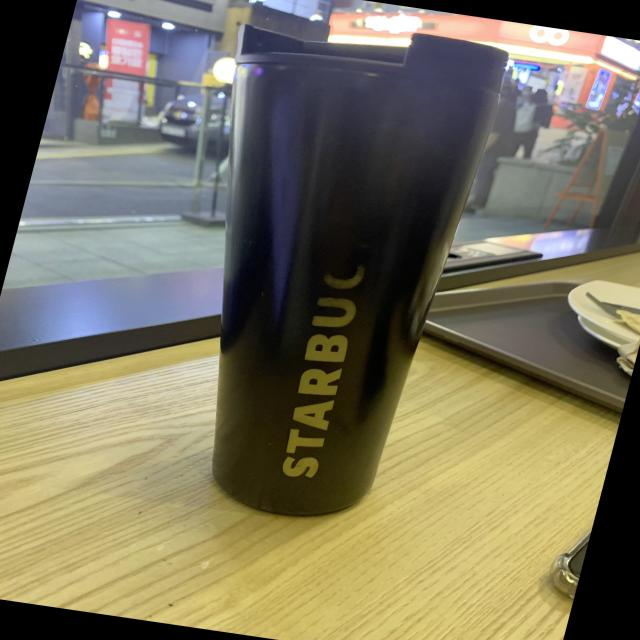bottle: (145, 0, 488, 616)
